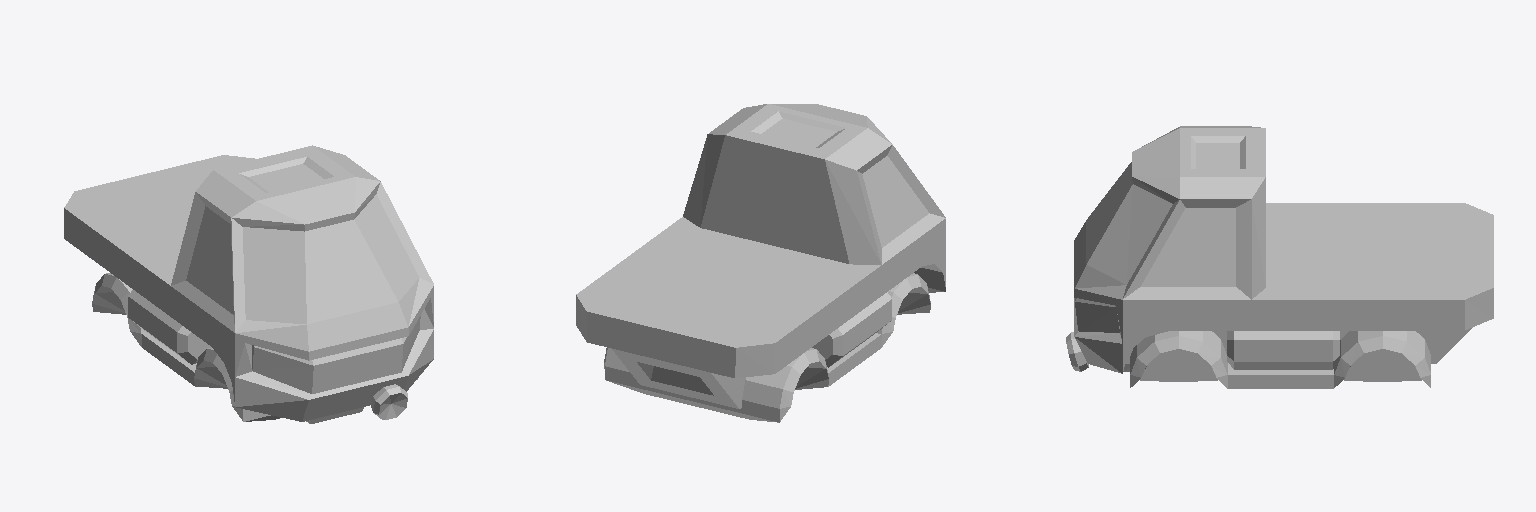
Rendered from spacetruck.obj.
The picture shows the model from 3 angles: view 1: azimuth 30°, elevation 25°; view 2: azimuth 150°, elevation 25°; view 3: azimuth 270°, elevation 25°; orthographic projection.
Visible parts, largest first — view 1: spacetruck_Cube.15125; view 2: spacetruck_Cube.15125; view 3: spacetruck_Cube.15125.
Boxes of the visible parts, x1,y1,x2,y2 form: spacetruck_Cube.15125: [64, 145, 433, 423]; spacetruck_Cube.15125: [576, 104, 945, 422]; spacetruck_Cube.15125: [1066, 126, 1493, 388].
Size of the model in its own units: 0.4895 by 0.4775 by 0.8933.